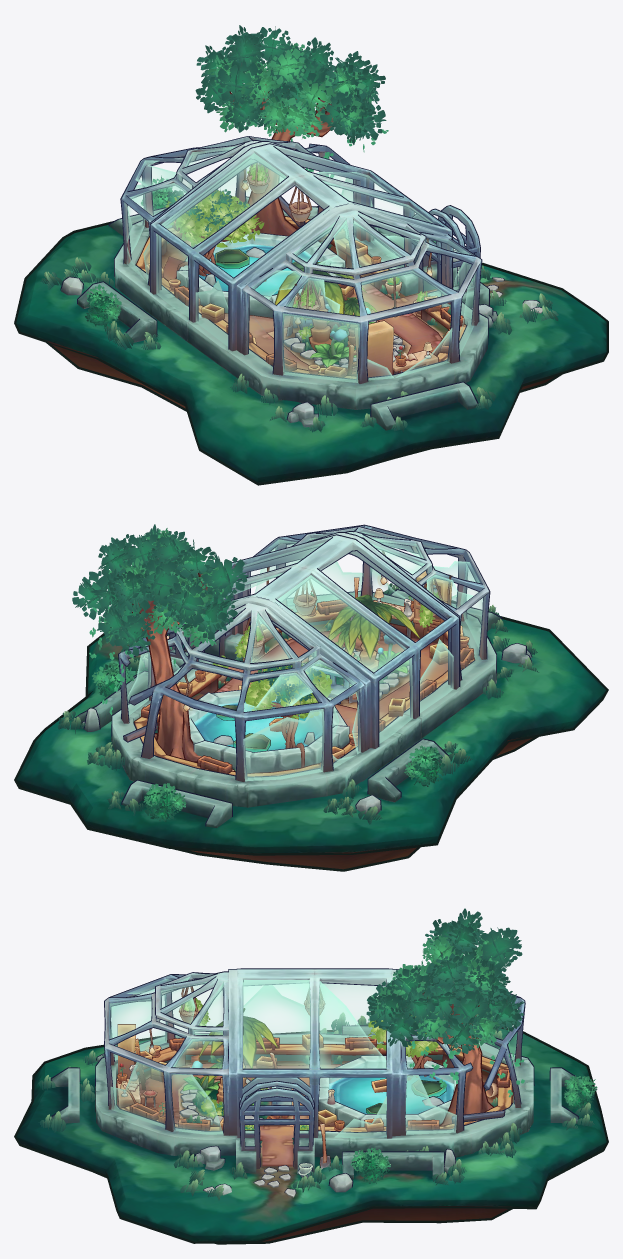
File: island-transformed.glb
3 views of the same model, one above another, from view 1: azimuth 30°, elevation 25°; view 2: azimuth 150°, elevation 25°; view 3: azimuth 270°, elevation 25° (orthographic). The views are drawn at different scales.
Visible parts, largest first — view 1: Plane, Cube.042, Plane.021, Cube.037, Cube.001, Cube.007, Cube.002, Cube.003, Cube.004, Circle, Cube.028, Plane.018 (+9 smaller); view 2: Plane, Cube.042, Plane.021, Cube.002, Cube.001, Cube.004, Circle, Cube.037, Cube.007, Cube.003, Circle.001, Cube.028 (+13 smaller); view 3: Plane, Cube.042, Plane.021, Cube.037, Cube.001, Cube.004, Cube.007, Circle, Cube.005, Cube.002, Cube.028, Cube.003 (+11 smaller).
Part boxes in pixels (x1,y1,x2,y2): Plane: (14,195,608,485); Cube.042: (124,146,476,382); Plane.021: (195,25,386,144); Cube.037: (239,210,482,383); Cube.001: (150,143,452,351); Cube.007: (187,263,489,409); Cube.002: (120,136,355,285); Cube.003: (150,141,452,353); Cube.004: (114,196,403,341); Circle: (176,232,345,317); Cube.028: (163,256,442,374); Plane.018: (163,189,264,247); Plane: (14,591,608,871); Cube.042: (127,532,485,781); Plane.021: (72,524,248,656); Cube.002: (118,603,368,781); Cube.001: (148,534,460,748); Cube.004: (111,663,421,807); Circle: (188,689,349,773); Cube.037: (248,524,490,680); Cube.007: (170,590,496,738); Cube.003: (154,532,459,750); Circle.001: (132,573,207,762); Cube.028: (214,623,447,740); Plane: (14,1027,608,1244); Cube.042: (109,976,517,1138); Plane.021: (366,908,524,1053); Cube.037: (104,971,228,1135); Cube.001: (237,968,392,1138); Cube.004: (315,1033,534,1158); Cube.007: (95,1033,315,1173); Circle: (318,1055,457,1127); Cube.005: (239,1077,314,1169); Cube.002: (400,993,525,1135); Cube.028: (116,1063,484,1166); Cube.003: (228,969,400,1136).
Bounding box in the file's own units: 20.06 × 12.93 × 23.94.
Materials: 17 (14 with a texture image).
